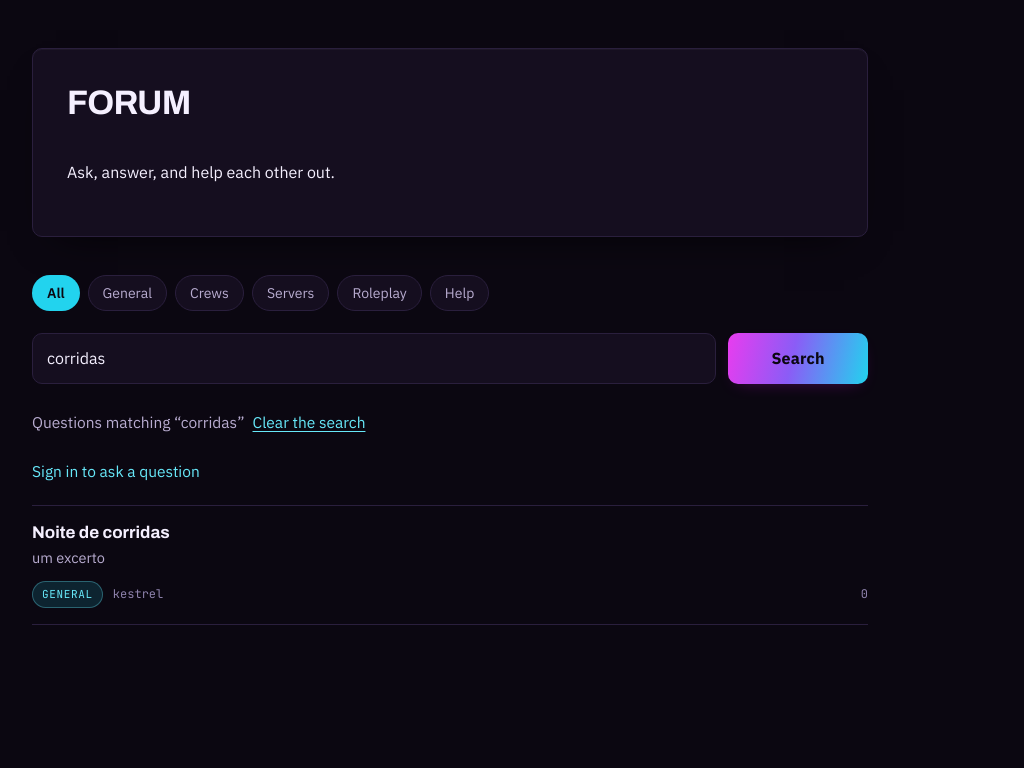
it: procurar no fórum › deixa limpar a procura
Check: the text "Noite de corridas" is shown, box [32, 523, 170, 542]
What coordinates should you click on to do the following:
click the button "Clear the search"
I would click on:
 (309, 422)
Its box is [252, 406, 365, 438].
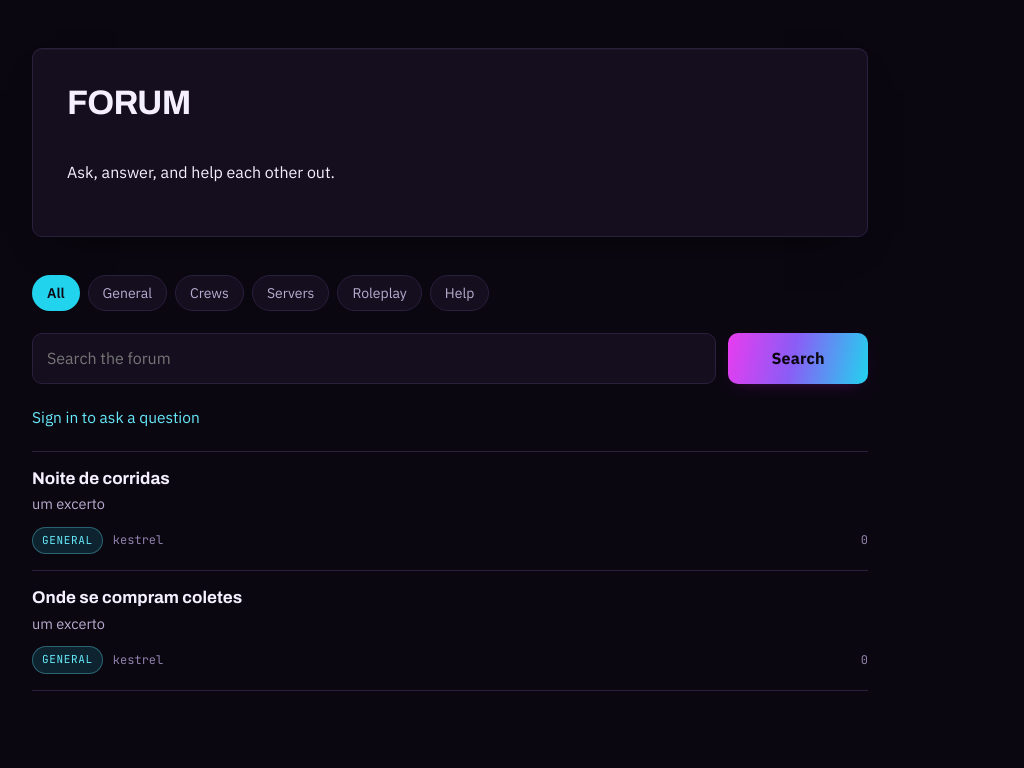
Check: the text "Onde se compram coletes" is shown, box [32, 588, 242, 607]
Check: the search field is empty, box [32, 333, 716, 384]
